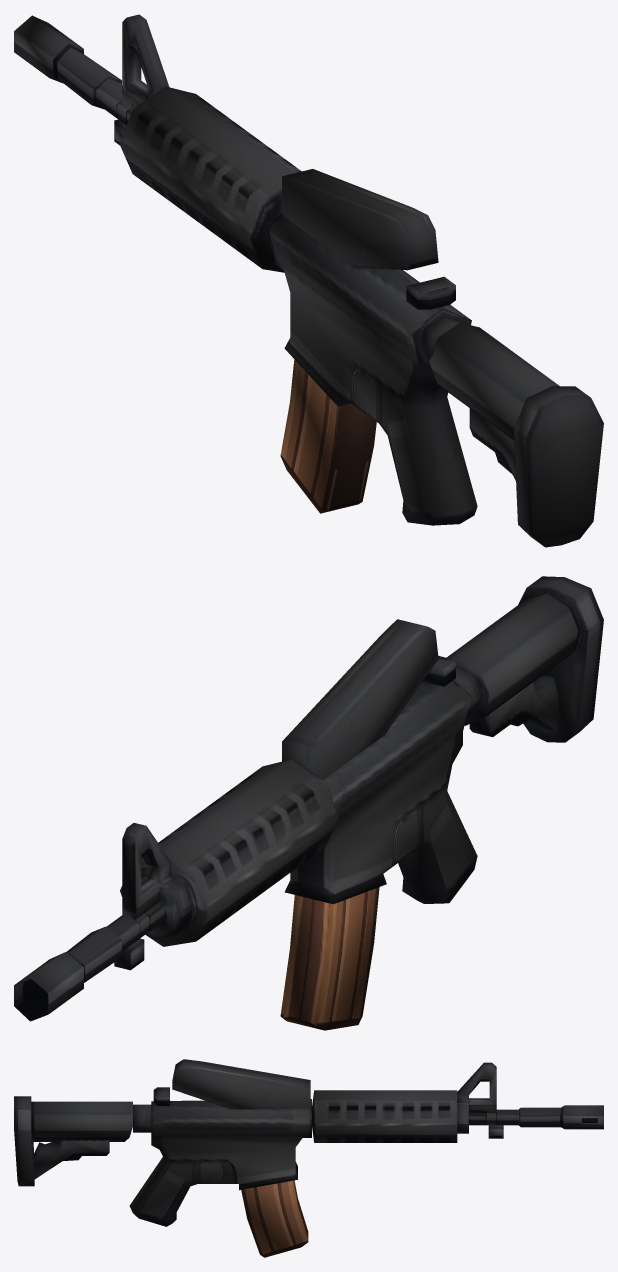
The model's file is Gun.fbx.
The picture shows the model from 3 angles, top to bottom: view 1: azimuth 30°, elevation 25°; view 2: azimuth 150°, elevation 25°; view 3: azimuth 270°, elevation 25°; orthographic projection. The views are drawn at different scales.
Parts seen in each view (by area): view 1: tripo_node_67ca509f; view 2: tripo_node_67ca509f; view 3: tripo_node_67ca509f.
Part boxes in pixels (x1=…): tripo_node_67ca509f: x1=14, y1=14, x2=603, y2=547; tripo_node_67ca509f: x1=14, y1=576, x2=603, y2=1030; tripo_node_67ca509f: x1=14, y1=1059, x2=603, y2=1257.
Size of the model in its own units: 0.0957 by 0.3535 by 0.998.
